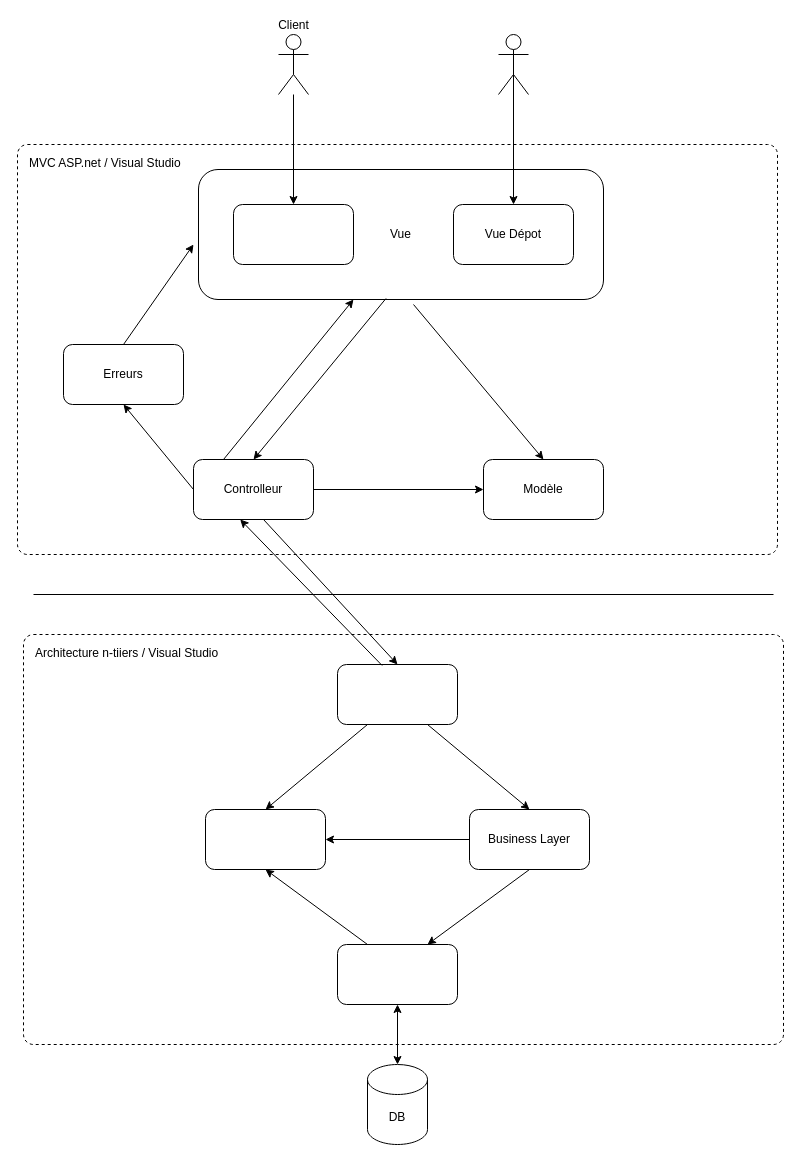
Some shapes in this 801 by 1162 pixel diagram are drawn without their labels. Here are the shapes that lost their labels. From the top down, the centre of each, then its label:
point 513,64: Loueur
point 293,234: Vue Client
point 397,694: WEB API
point 265,839: Modèles
point 397,974: Data Access Layer
